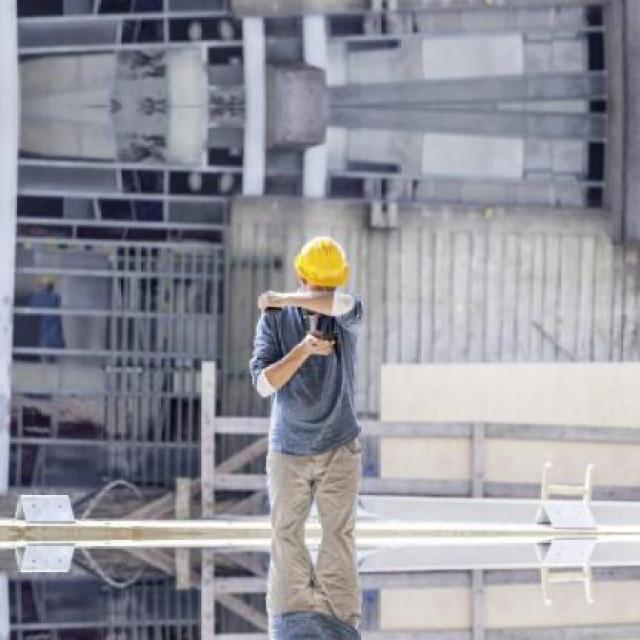helmet: (284, 233, 358, 308)
